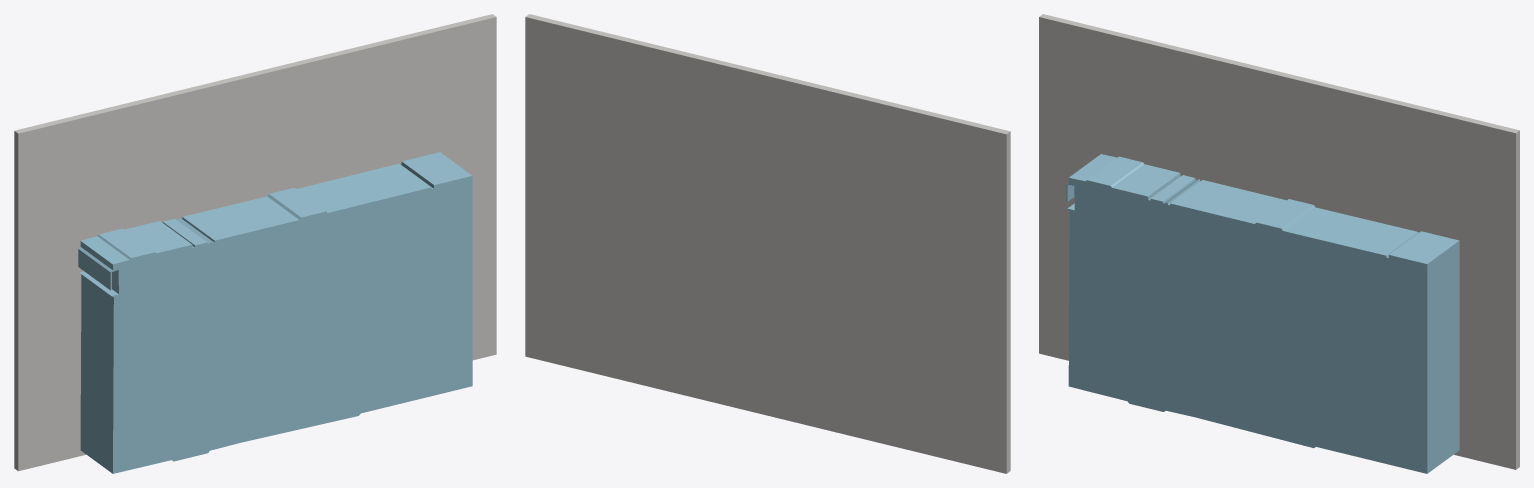
3 renders of one model, left to right at view 1: azimuth 30°, elevation 25°; view 2: azimuth 150°, elevation 25°; view 3: azimuth 330°, elevation 25°, orthographic.
Visible parts, largest first — view 1: world; view 2: world; view 3: world.
Boxes of the visible parts, x1,y1,x2,y2 form: world: (14,14,496,473); world: (525,14,1010,473); world: (1039,14,1519,473).
Size of the model in its own units: 10.23 by 6.9 by 1.35.
